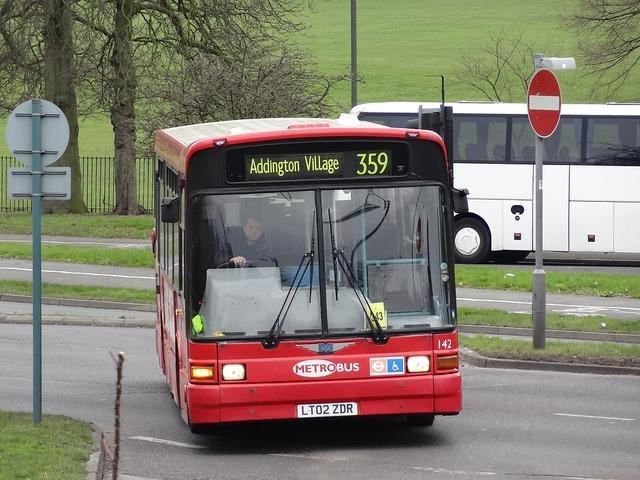bus: (154, 116, 464, 430), (338, 96, 640, 265)
